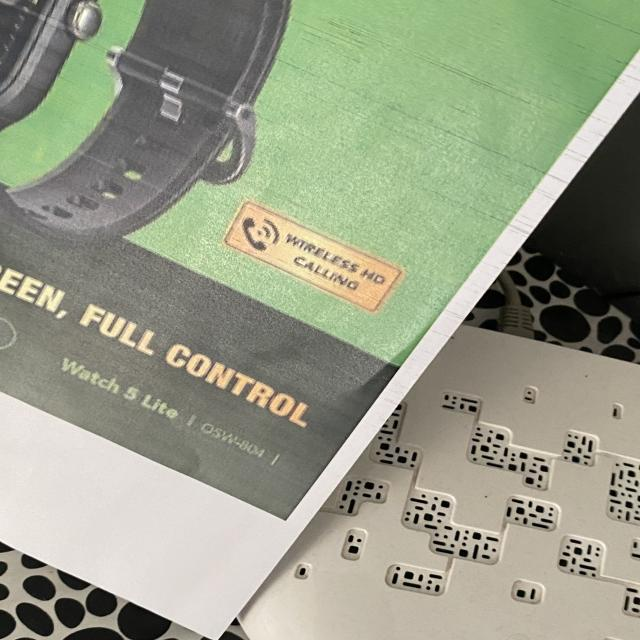Watch 5 Lite OSW-804: (50, 350, 287, 474)
